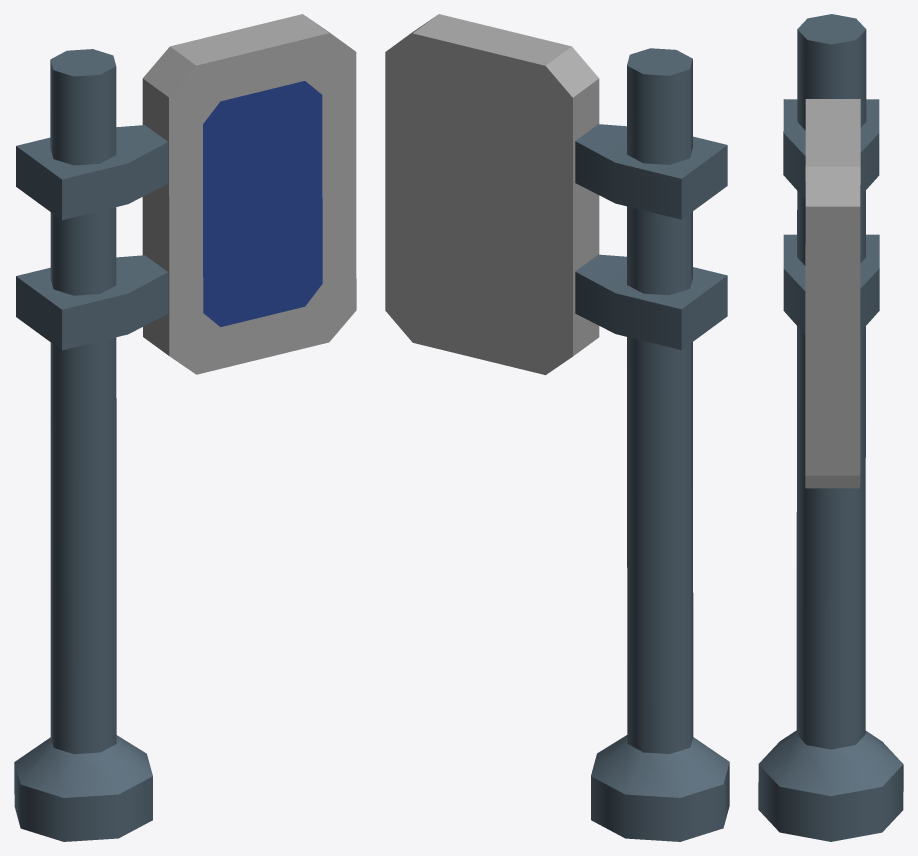
Rendered from signbusstation_01.fbx.
3 views of the same model, side by side, from view 1: azimuth 30°, elevation 25°; view 2: azimuth 150°, elevation 25°; view 3: azimuth 270°, elevation 25° (orthographic). The views are drawn at different scales.
Visible parts, largest first — view 1: signbusstation_01; view 2: signbusstation_01; view 3: signbusstation_01.
Boxes of the visible parts, x1=… form: signbusstation_01: x1=14, y1=14, x2=356, y2=841; signbusstation_01: x1=385, y1=14, x2=729, y2=841; signbusstation_01: x1=758, y1=14, x2=903, y2=841.
Bounding box in the file's own units: 96.74 × 214 × 36.09.
